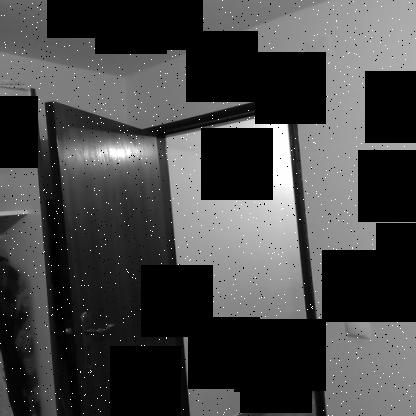Porte: (42, 90, 330, 416)
